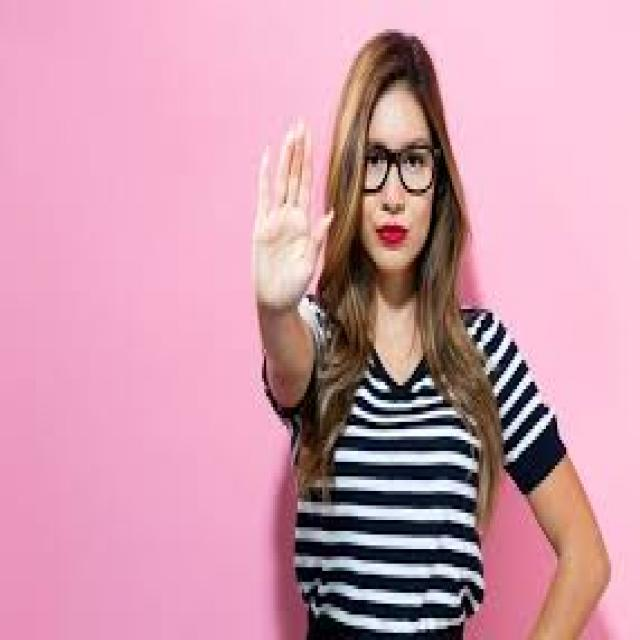Glasses: (345, 138, 443, 196)
